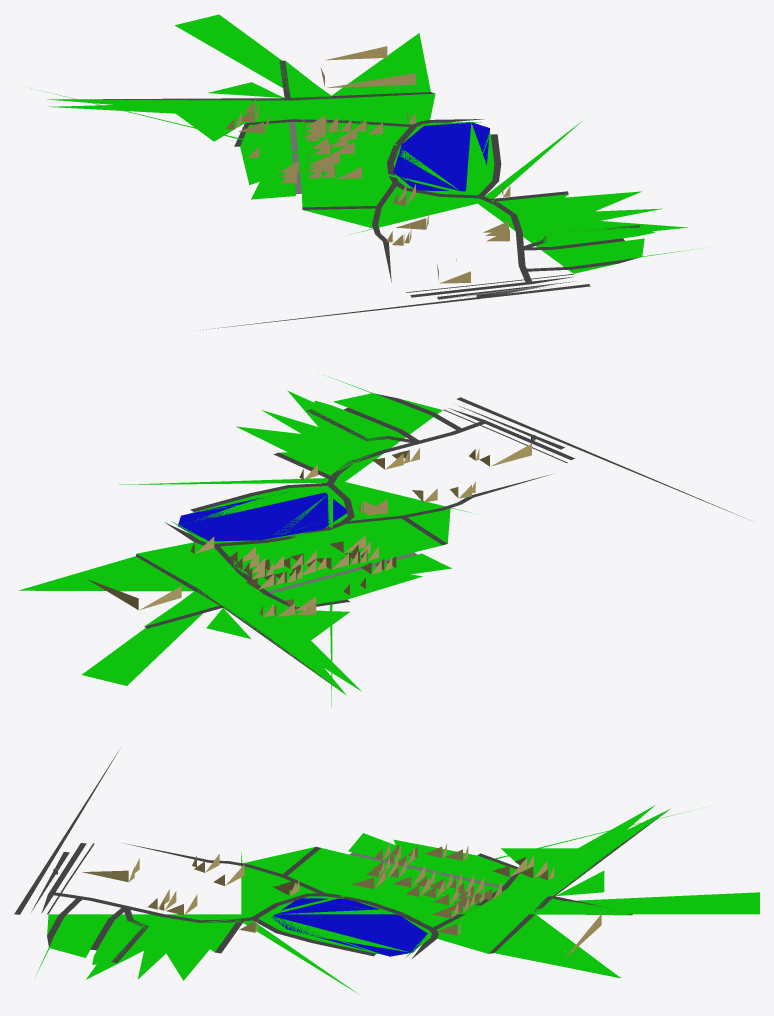
The picture shows the model from 3 angles, top to bottom: view 1: azimuth 30°, elevation 25°; view 2: azimuth 150°, elevation 25°; view 3: azimuth 270°, elevation 25°; orthographic projection. The views are drawn at different scales.
Bounding box in the file's own units: 353 × 10.5 × 431.
